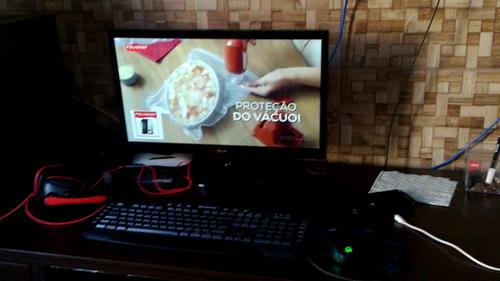Polishop #1: (129, 109, 164, 141)
